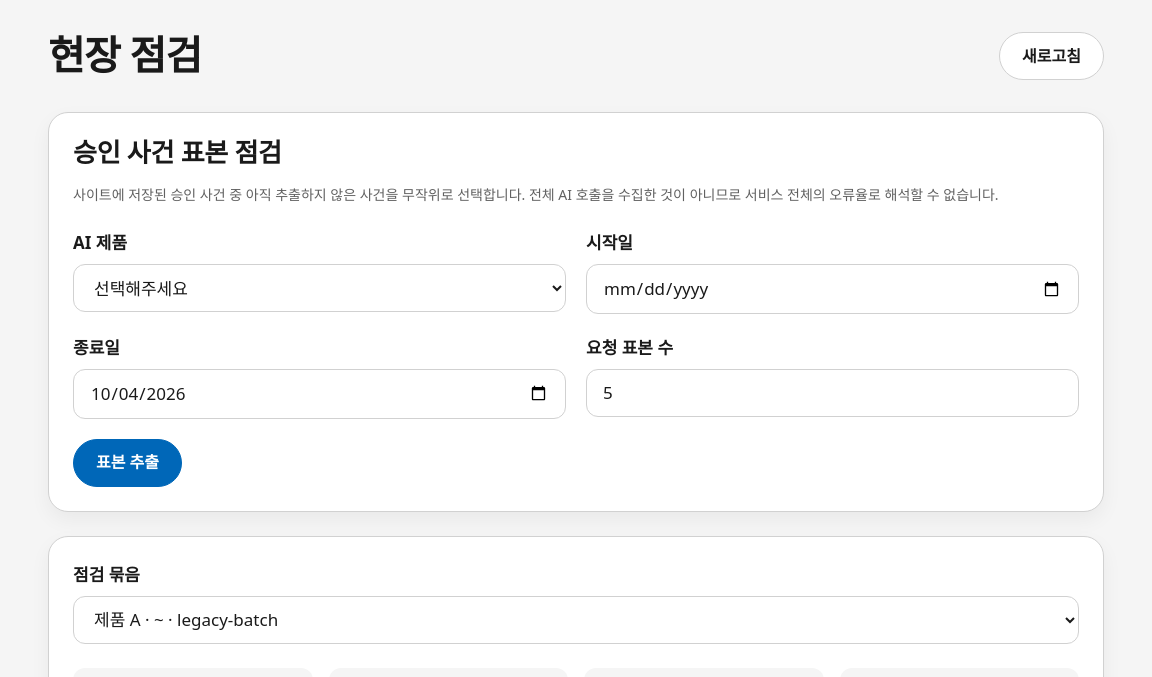
Scenario: does not confirm/reset an empty successful response for create_sample
Select "제품 A" in the dropdown labelled "AI 제품" at (320, 288), box [73,264,566,312]
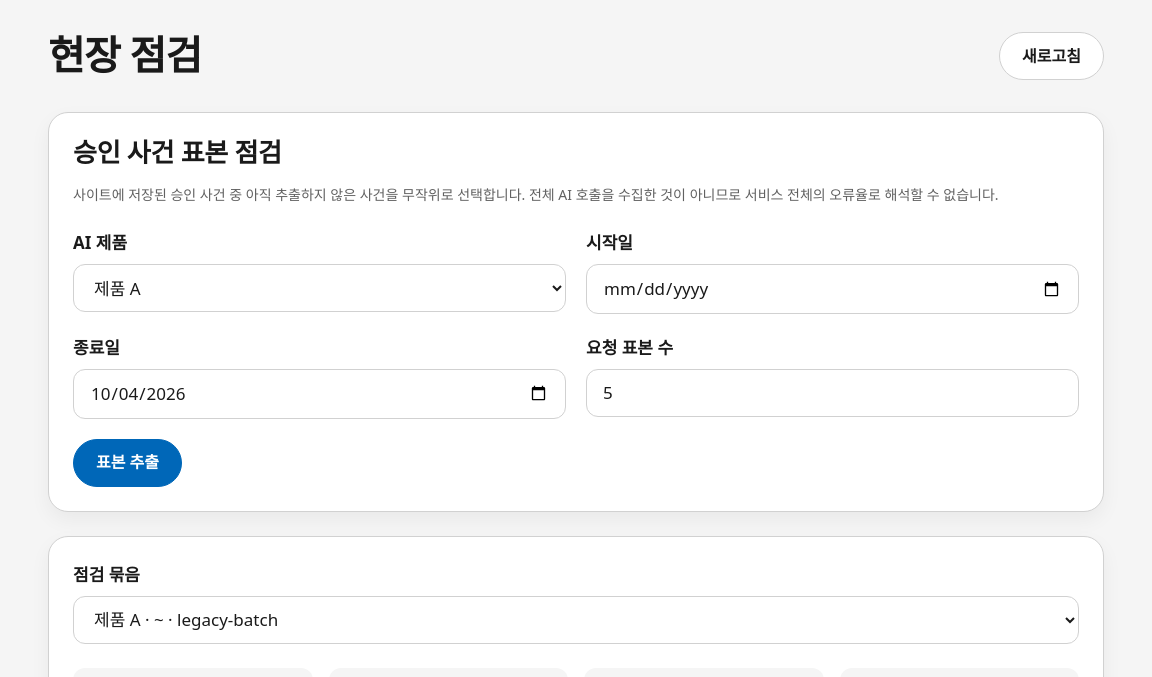
Type "2026-01-01" into the date field labelled "시작일" at (832, 289), box [586,264,1079,314]
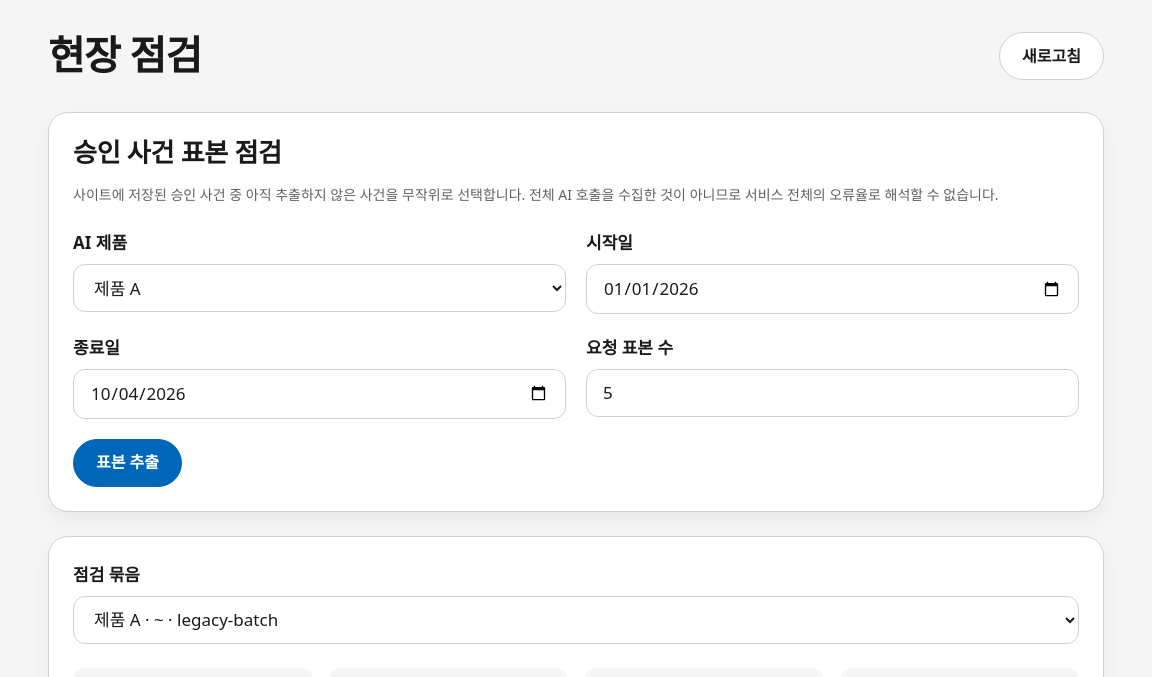
Type "2026-01-02" into the date field labelled "종료일" at (320, 394), box [73,369,566,419]
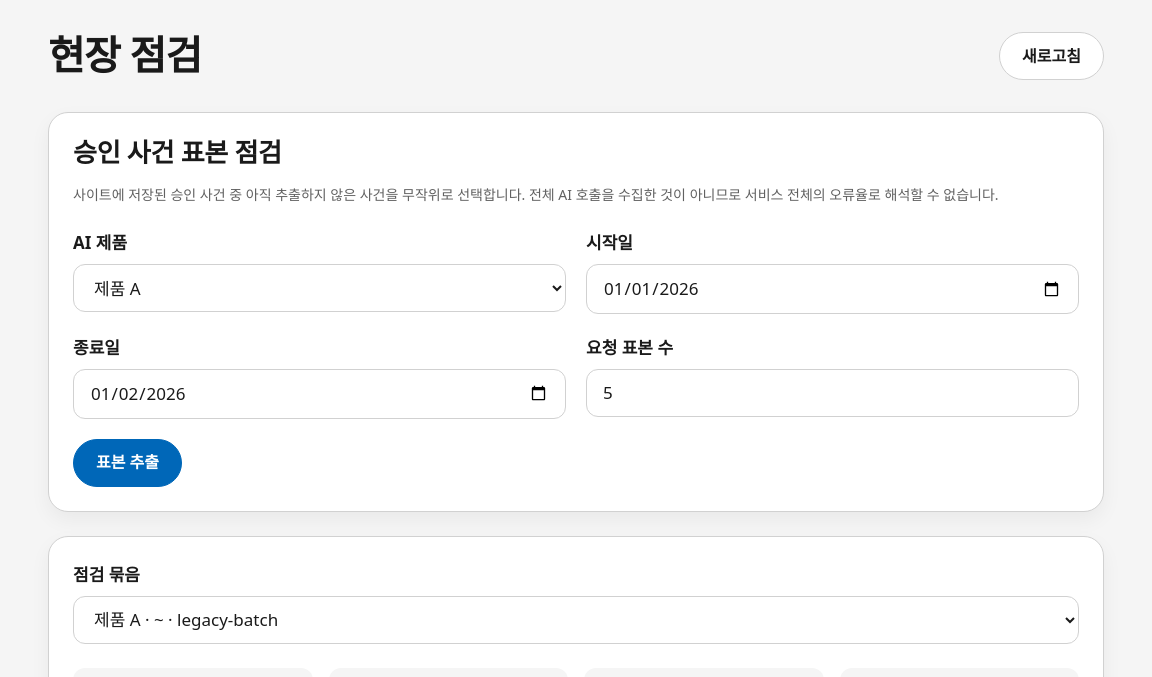
Submit the form "표본 추출", box [73,229,1079,487]
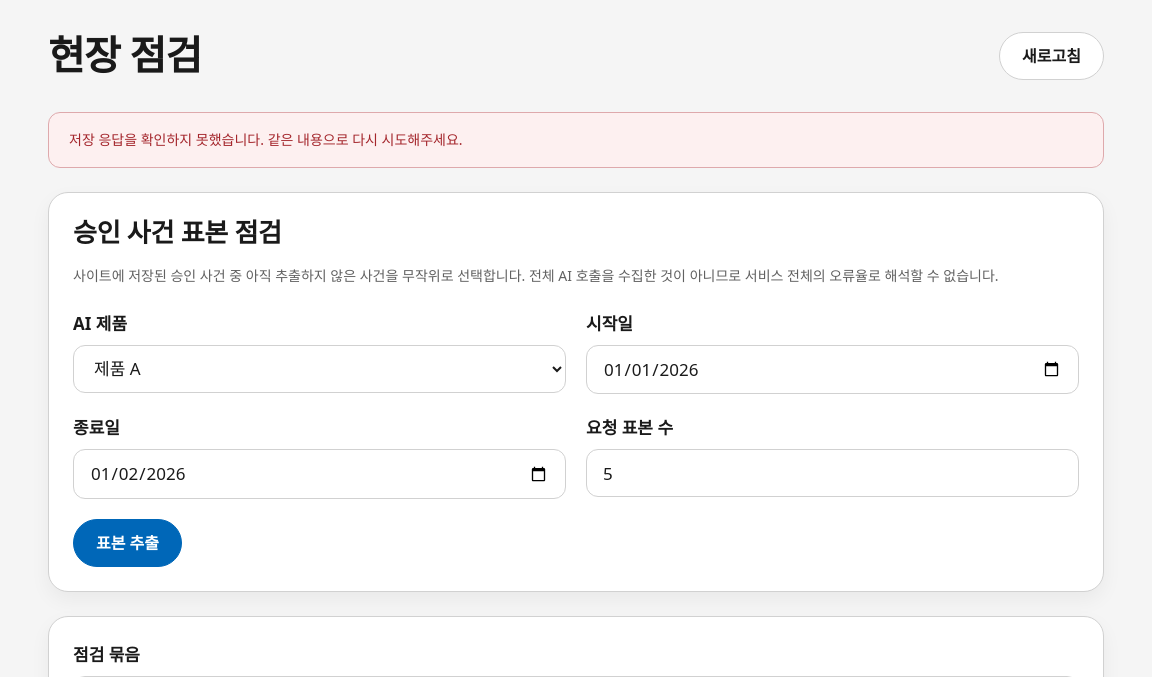
Check: the text "기록을 저장했습니다." is not shown
Check: the message "저장 응답을 확인하지 못했습니다. 같은 내용으로 다시 시도해주세요." is shown, box [48,112,1104,168]
Submit the form "표본 추출", box [73,310,1079,567]
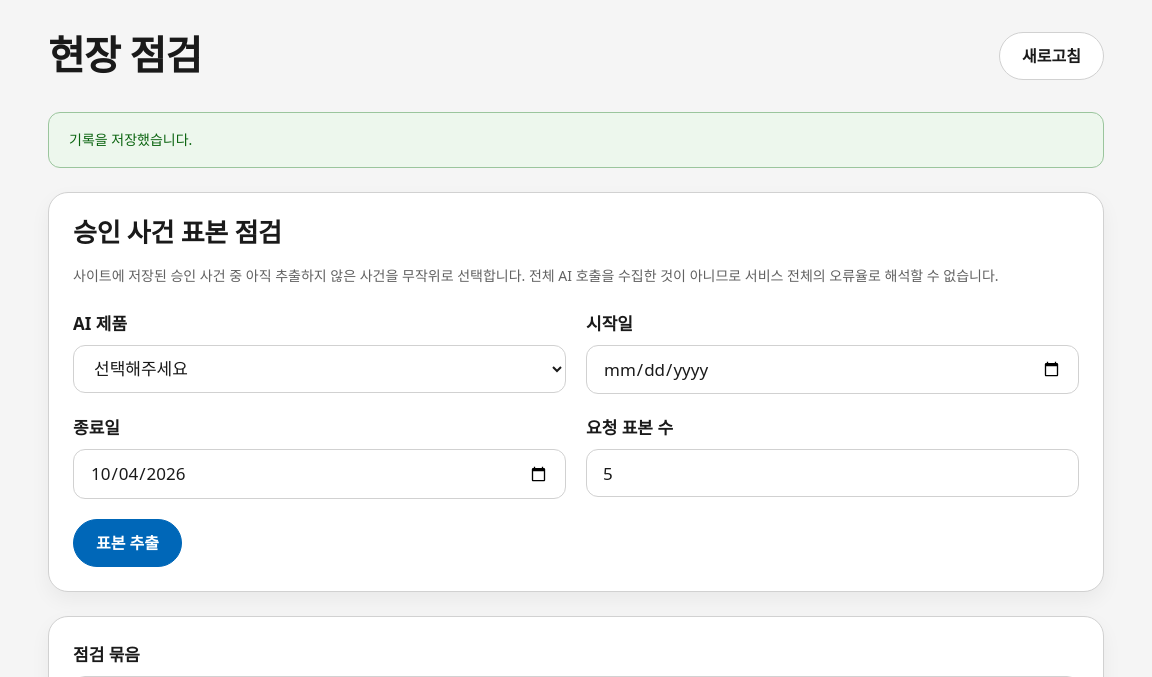
Check: the text "기록을 저장했습니다." is shown, box [48,112,1104,168]
